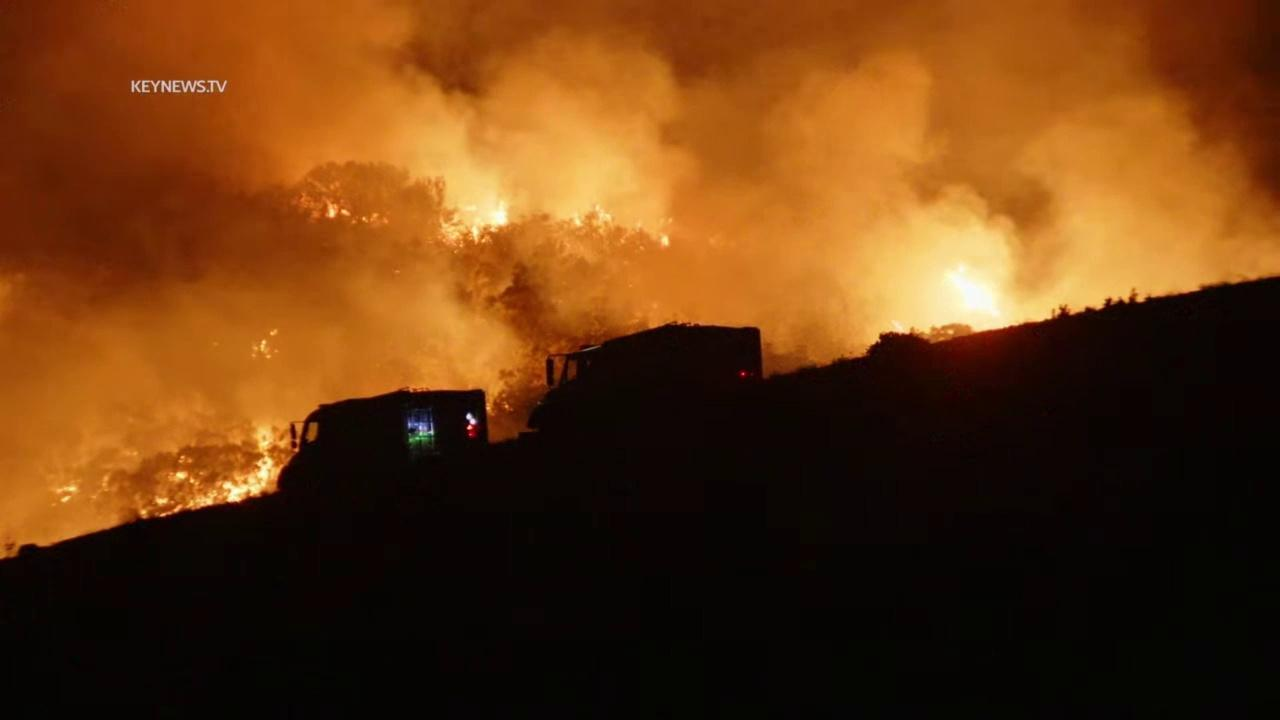fire: (138, 424, 276, 529), (940, 264, 1004, 335), (439, 197, 511, 248), (319, 196, 384, 226), (54, 483, 80, 505), (887, 319, 910, 335), (658, 233, 671, 250)
smoke: (0, 0, 1280, 585)
